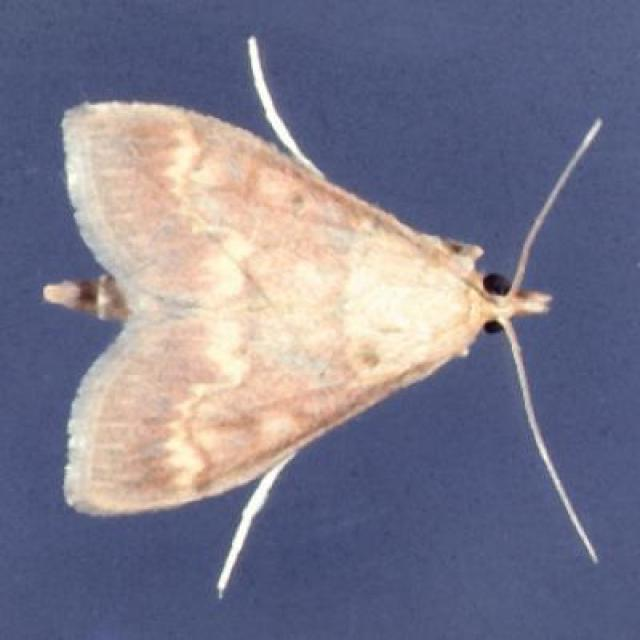cornborer-Adult-: (39, 26, 606, 547)
